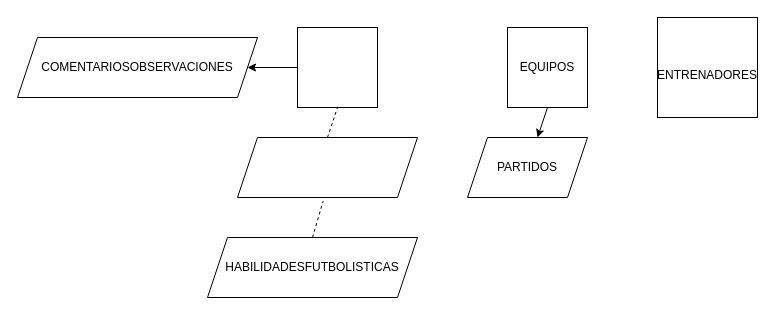
Image size: 775x315. Some labels were removed from this diagram. The centre of each missing label's shape, as x and y in pixels:
"HABILIDADDEJUGADORES" goes at (327,167).
"JUGADORES" goes at (337,67).
